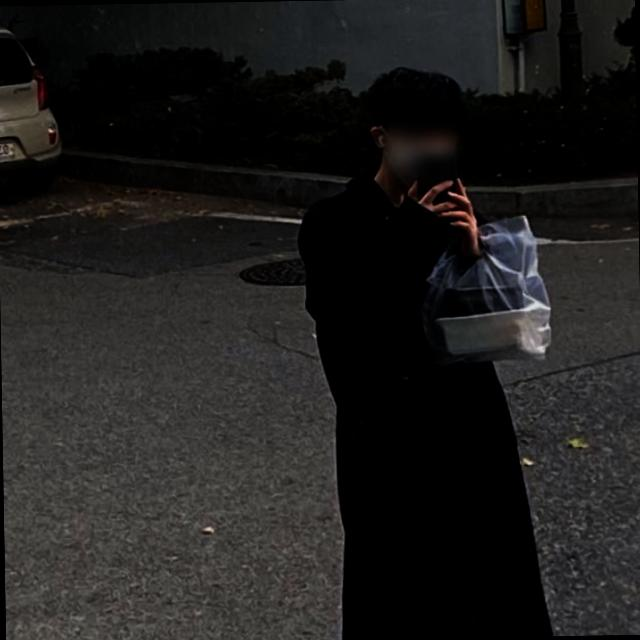coat: (296, 162, 559, 640)
